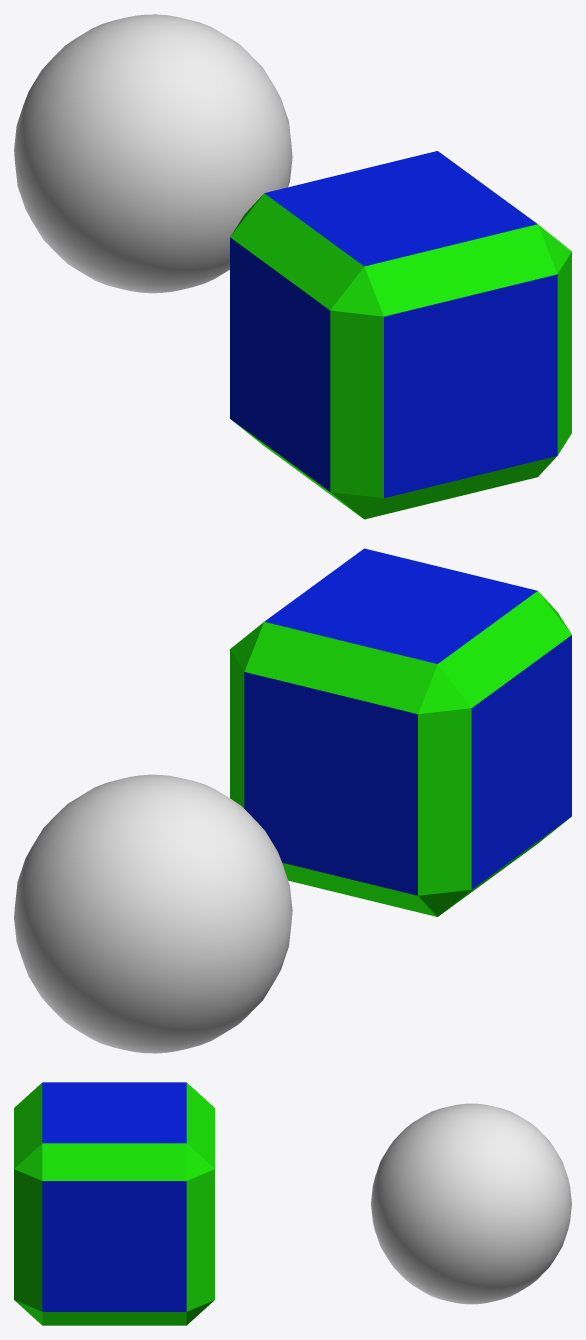
3 renders of one model, top to bottom at view 1: azimuth 30°, elevation 25°; view 2: azimuth 150°, elevation 25°; view 3: azimuth 270°, elevation 25°, orthographic. The views are drawn at different scales.
Visible parts, largest first — view 1: Cube, Sphere; view 2: Cube, Sphere; view 3: Cube, Sphere.
Part boxes in pixels (x1,y1,x2,y2): Cube: (230, 151, 571, 519); Sphere: (14, 14, 292, 293); Cube: (230, 548, 571, 916); Sphere: (14, 774, 292, 1053); Cube: (14, 1082, 214, 1325); Sphere: (371, 1103, 571, 1304).
Size of the model in its own units: 2 by 2 by 5.55.
